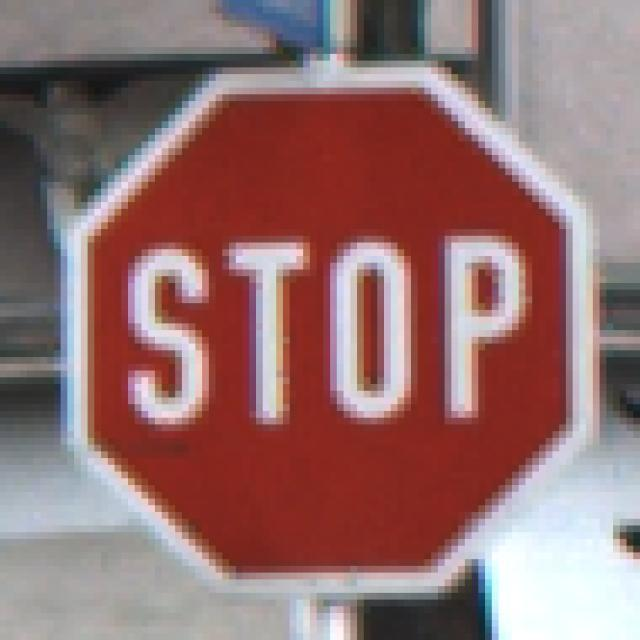stop: (65, 52, 603, 604)
